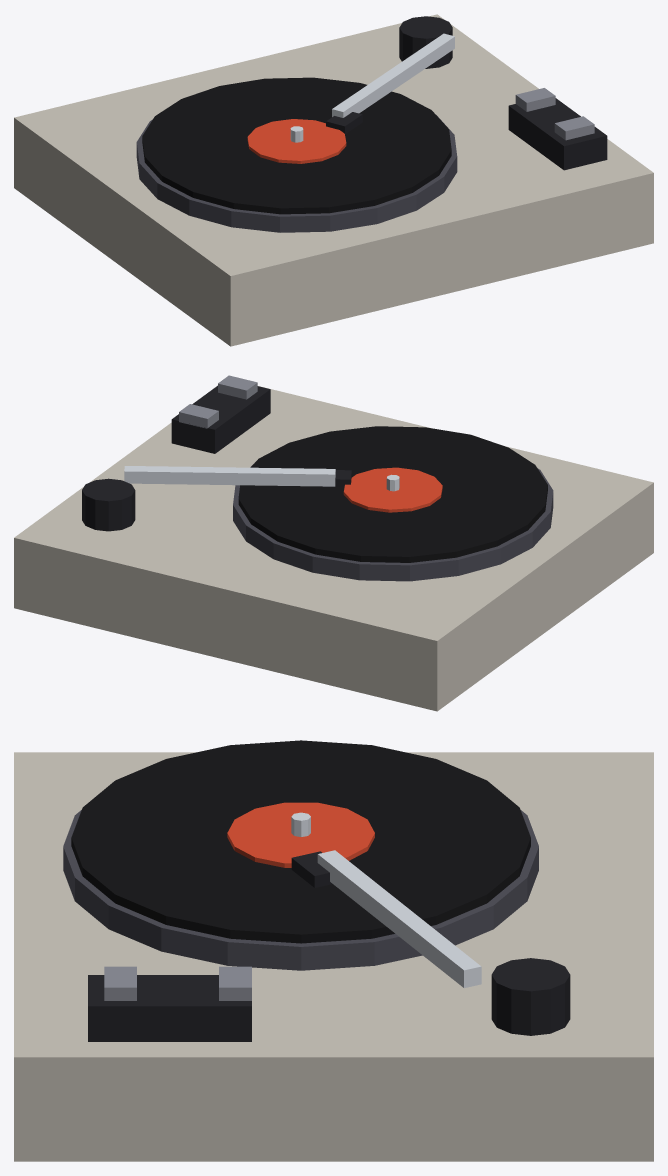
File: turntable.glb
3 renders of one model, top to bottom at view 1: azimuth 30°, elevation 25°; view 2: azimuth 150°, elevation 25°; view 3: azimuth 270°, elevation 25°, orthographic. The views are drawn at different scales.
Parts seen in each view (by area): view 1: turntable; view 2: turntable; view 3: turntable.
Boxes of the visible parts, <box> form: turntable: <box>14,14,653,346</box>; turntable: <box>14,375,653,711</box>; turntable: <box>14,740,653,1161</box>.
Bounding box in the file's own units: 0.44 × 0.106 × 0.39.
